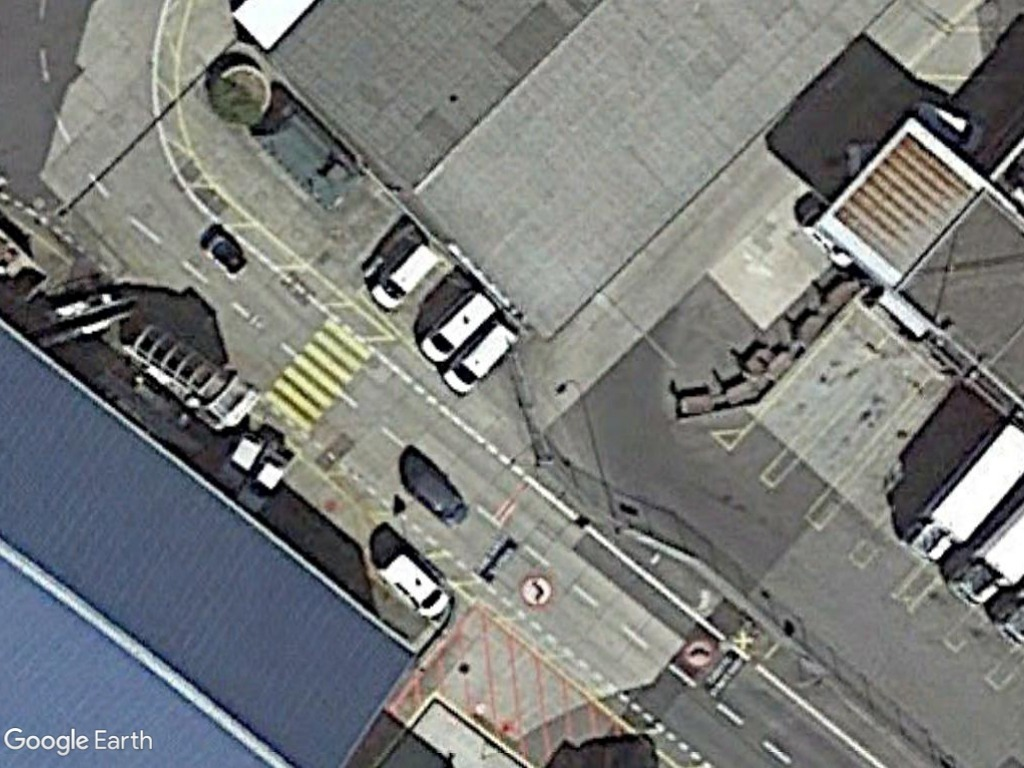van: (436, 317, 520, 397), (417, 286, 496, 366), (375, 546, 451, 624), (366, 241, 441, 314)
